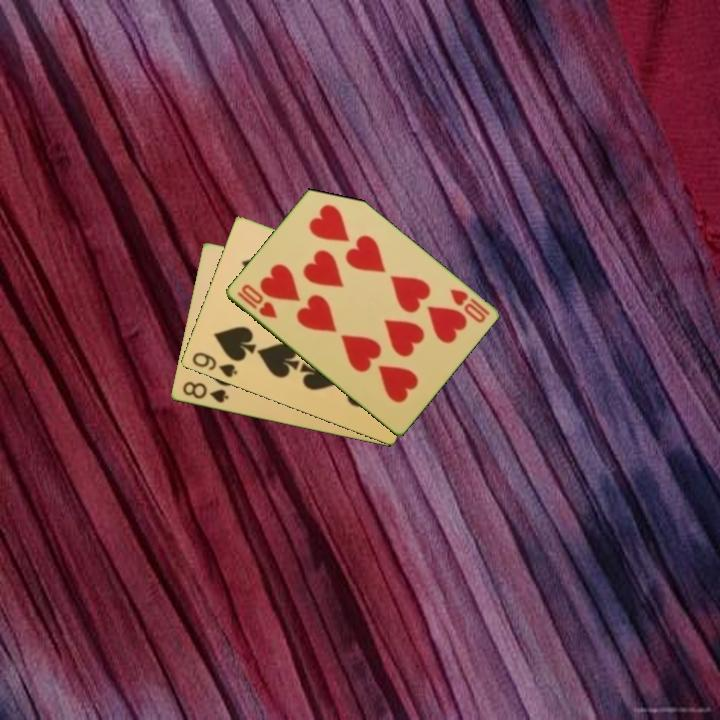10h: (233, 281, 280, 322), (446, 285, 492, 326)
8s: (179, 378, 231, 406)
9s: (188, 349, 240, 381)
